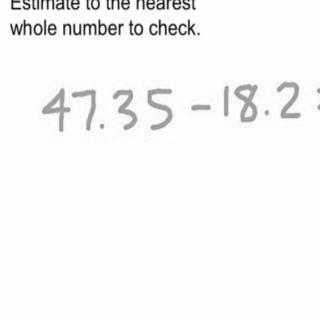.: (98, 116, 110, 132), (261, 105, 270, 118)
1: (218, 78, 231, 127)
2: (274, 77, 304, 123)
3: (111, 86, 140, 137)
4: (39, 83, 70, 134)
5: (144, 82, 176, 131)
7: (72, 82, 99, 135)
8: (233, 84, 262, 123)
